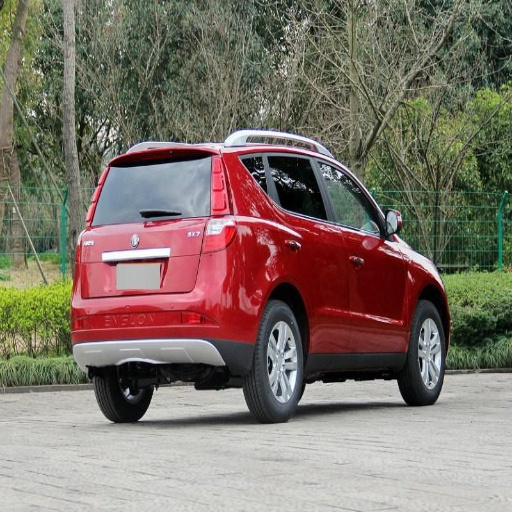back_bumper: (74, 247, 266, 369)
back_right_door: (265, 150, 350, 351)
trunk: (77, 216, 207, 324)
